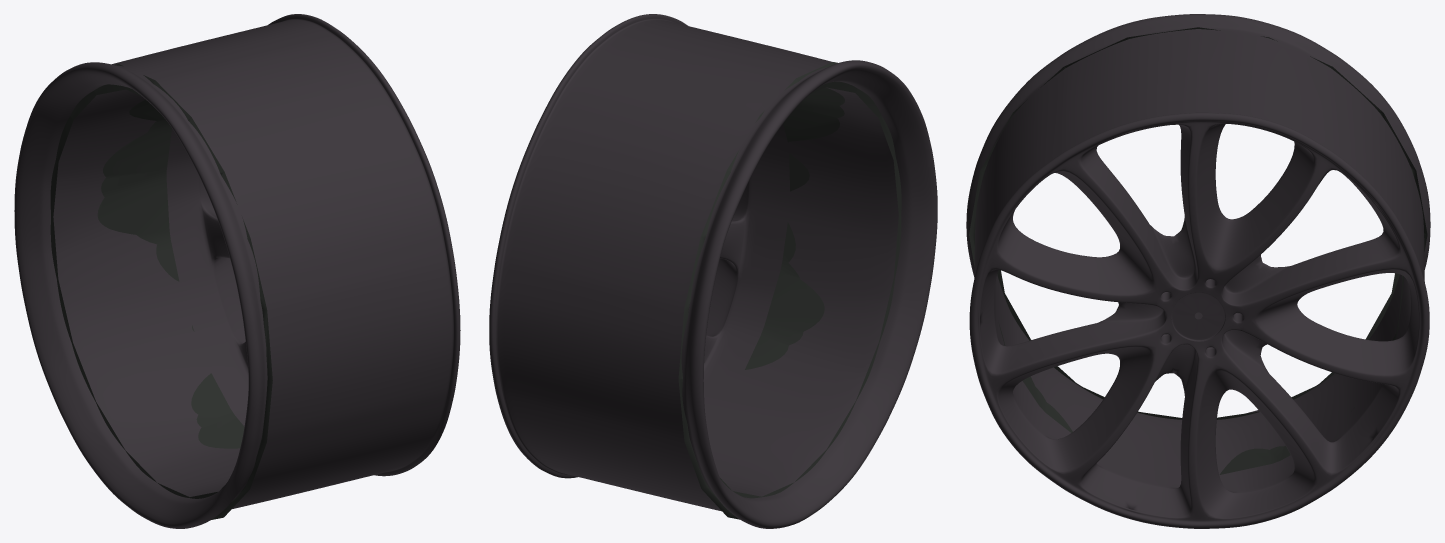
The model's file is rearright1.glb.
3 renders of one model, left to right at view 1: azimuth 30°, elevation 25°; view 2: azimuth 150°, elevation 25°; view 3: azimuth 270°, elevation 25°, orthographic. The views are drawn at different scales.
Visible parts, largest first — view 1: Rear Right Wheel; view 2: Rear Right Wheel; view 3: Rear Right Wheel.
Boxes of the visible parts, x1=… form: Rear Right Wheel: x1=14, y1=14, x2=460, y2=528; Rear Right Wheel: x1=489, y1=14, x2=937, y2=528; Rear Right Wheel: x1=966, y1=14, x2=1430, y2=528.
Size of the model in its own units: 0.3248 by 0.6214 by 0.6223.
1 material, 1 textured.
